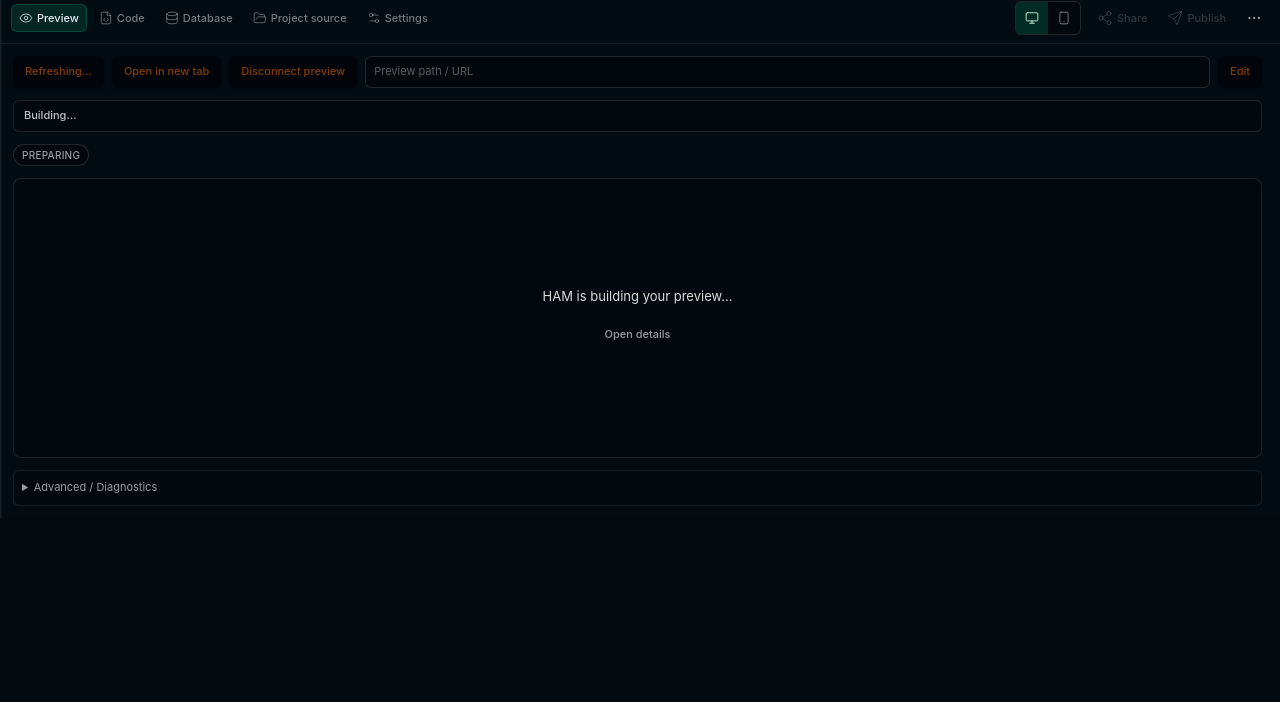
WorkspaceWorkbench › Provider-ready cloud runtime renders positive ready copy
What coordinates should you click on to do the following:
click the heading "Advanced / Diagnostics"
I would click on:
 (95, 487)
Its box is left=34, top=480, right=157, bottom=494.
(page scrolled)
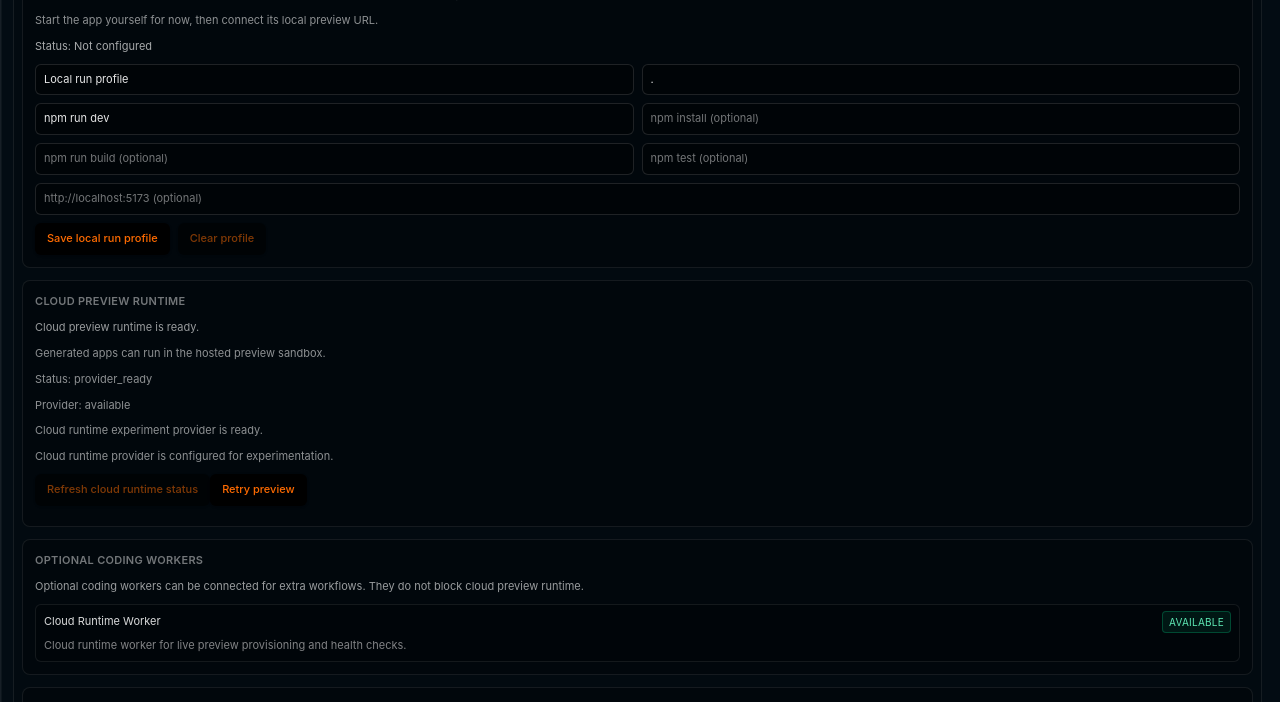
Expected: the text with test id "hww-cloud-runtime-provider-copy" reads "Cloud runtime experiment provider is ready.", left=35, top=423, right=263, bottom=437
Expected: the text with test id "hww-cloud-runtime-refresh-copy" reads "Generated apps can run in the hosted preview sandbox.", left=35, top=346, right=326, bottom=360
